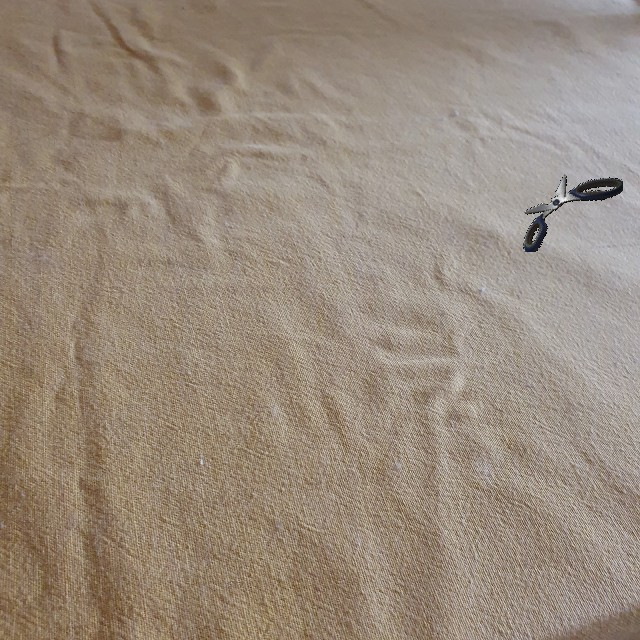scissors: (523, 174, 623, 252)
